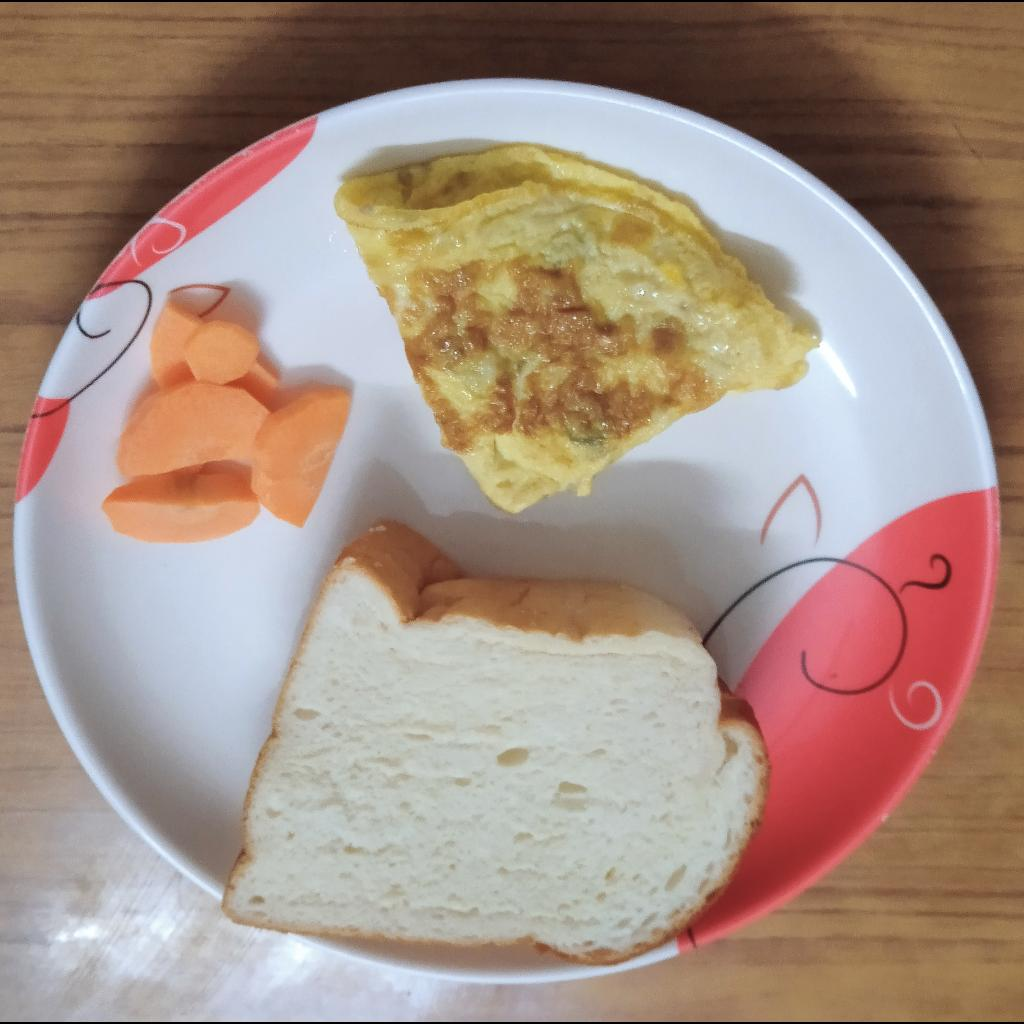bread: (219, 515, 770, 968)
carrot: (97, 303, 355, 548)
egg-poached: (335, 145, 815, 515)
